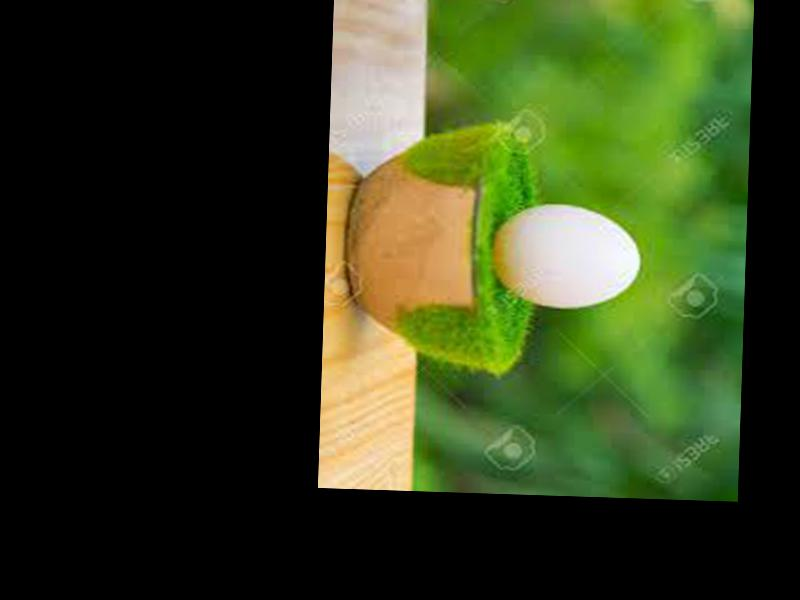Eggs: (491, 200, 639, 308)
